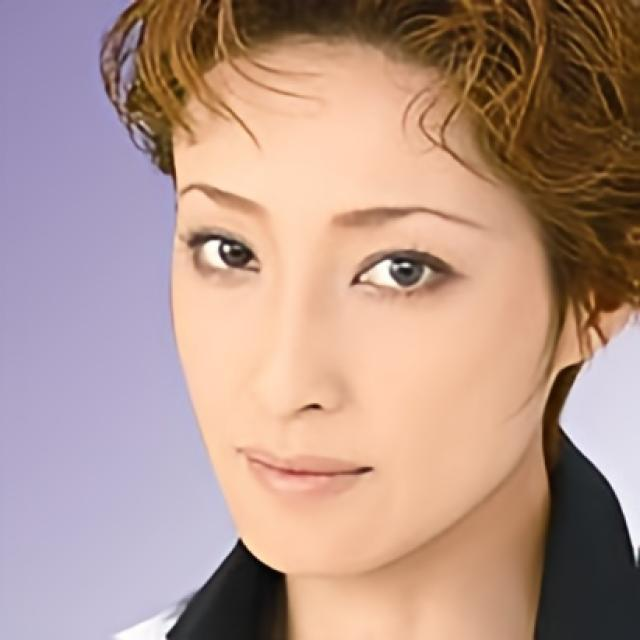neutral: (170, 34, 554, 579)
